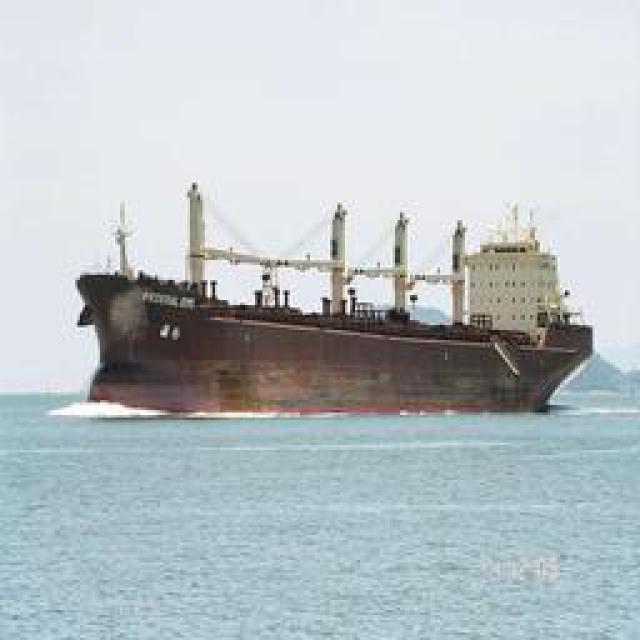Ship: (64, 190, 594, 413)
